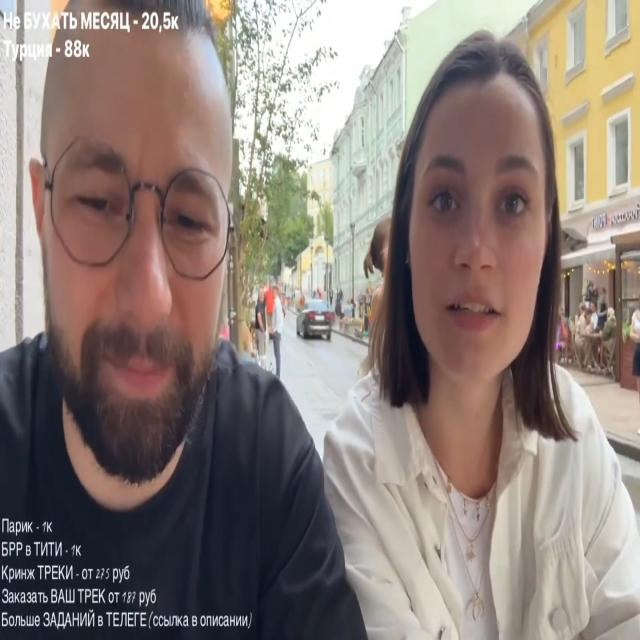Person: (0, 16, 347, 640), (305, 28, 636, 638)
